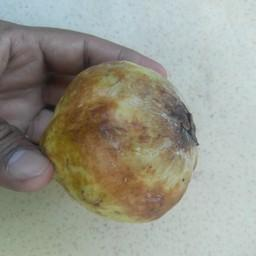Bad_guava: (40, 58, 201, 227)
